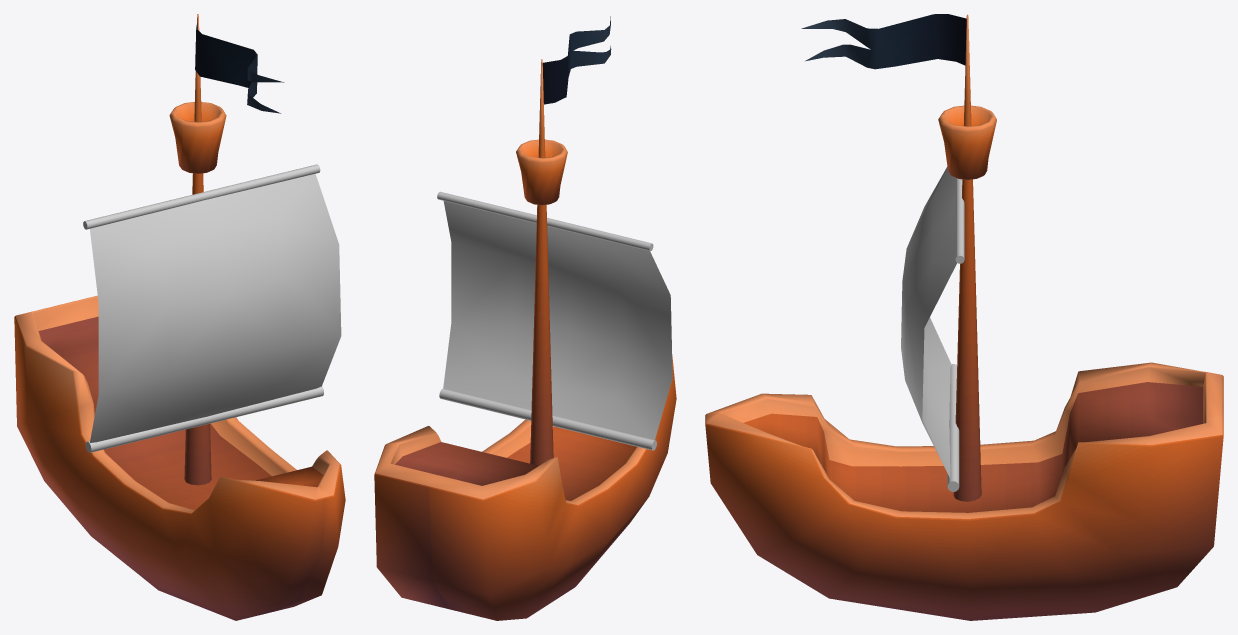
The model's file is ship.obj.
The picture shows the model from 3 angles, left to right: view 1: azimuth 30°, elevation 25°; view 2: azimuth 150°, elevation 25°; view 3: azimuth 270°, elevation 25°; orthographic projection. The views are drawn at different scales.
Visible parts, largest first — view 1: Sail, Ship, Mast, Flag; view 2: Sail, Ship, Mast, Flag; view 3: Ship, Sail, Mast, Flag.
Boxes of the visible parts, <box> form: Sail: <box>83,164,341,452</box>; Ship: <box>14,295,345,620</box>; Mast: <box>169,14,226,485</box>; Flag: <box>195,19,284,113</box>; Sail: <box>437,191,672,450</box>; Ship: <box>374,357,676,620</box>; Mast: <box>516,59,567,465</box>; Flag: <box>542,16,611,104</box>; Ship: <box>705,362,1223,620</box>; Sail: <box>901,167,964,491</box>; Mast: <box>938,14,996,501</box>; Flag: <box>801,14,966,69</box>.
Bounding box in the file's own units: 0.5649 × 1.26 × 1.01.
